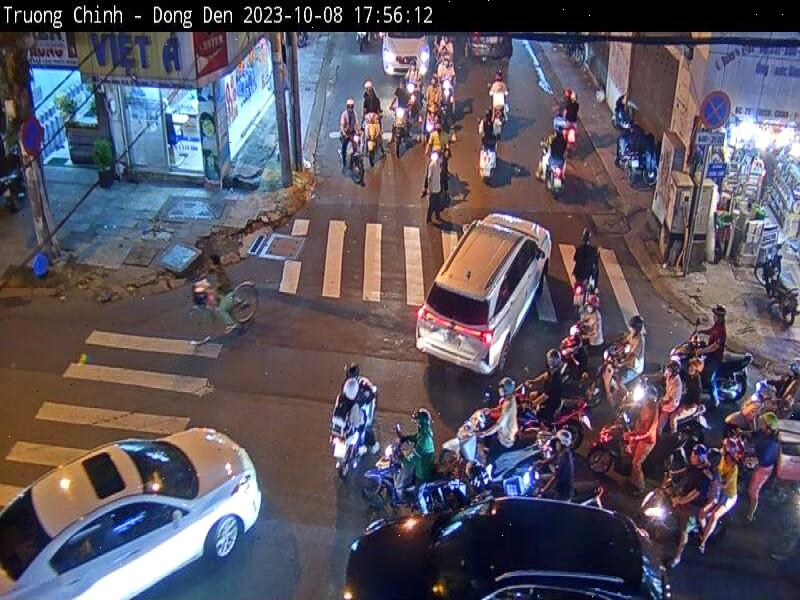car: (1, 421, 263, 600), (336, 494, 674, 600), (413, 210, 553, 379), (379, 34, 432, 77), (458, 29, 519, 63)
motorcycle: (439, 407, 547, 501), (620, 469, 729, 548), (356, 438, 460, 510), (666, 330, 752, 407), (589, 412, 663, 488), (328, 370, 374, 481), (750, 243, 800, 330), (614, 119, 646, 188), (337, 129, 371, 192), (590, 341, 620, 412), (536, 157, 568, 202), (475, 148, 499, 185)
